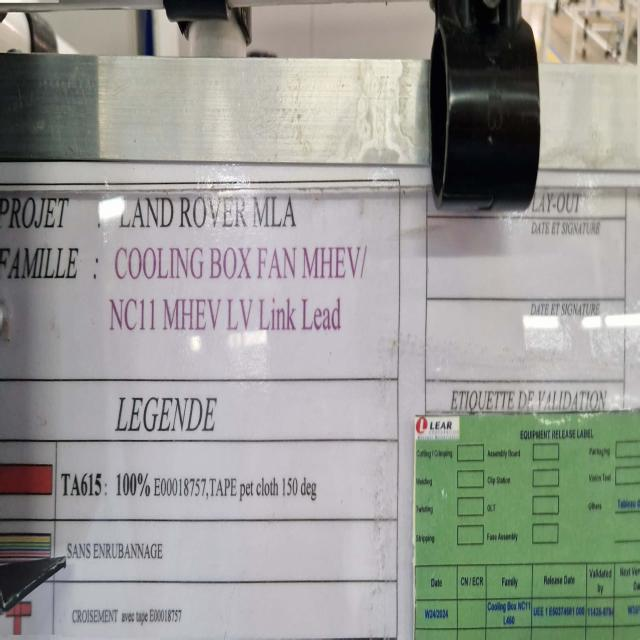Etiquette Familly MHEV_NC11: (1, 156, 640, 640)
